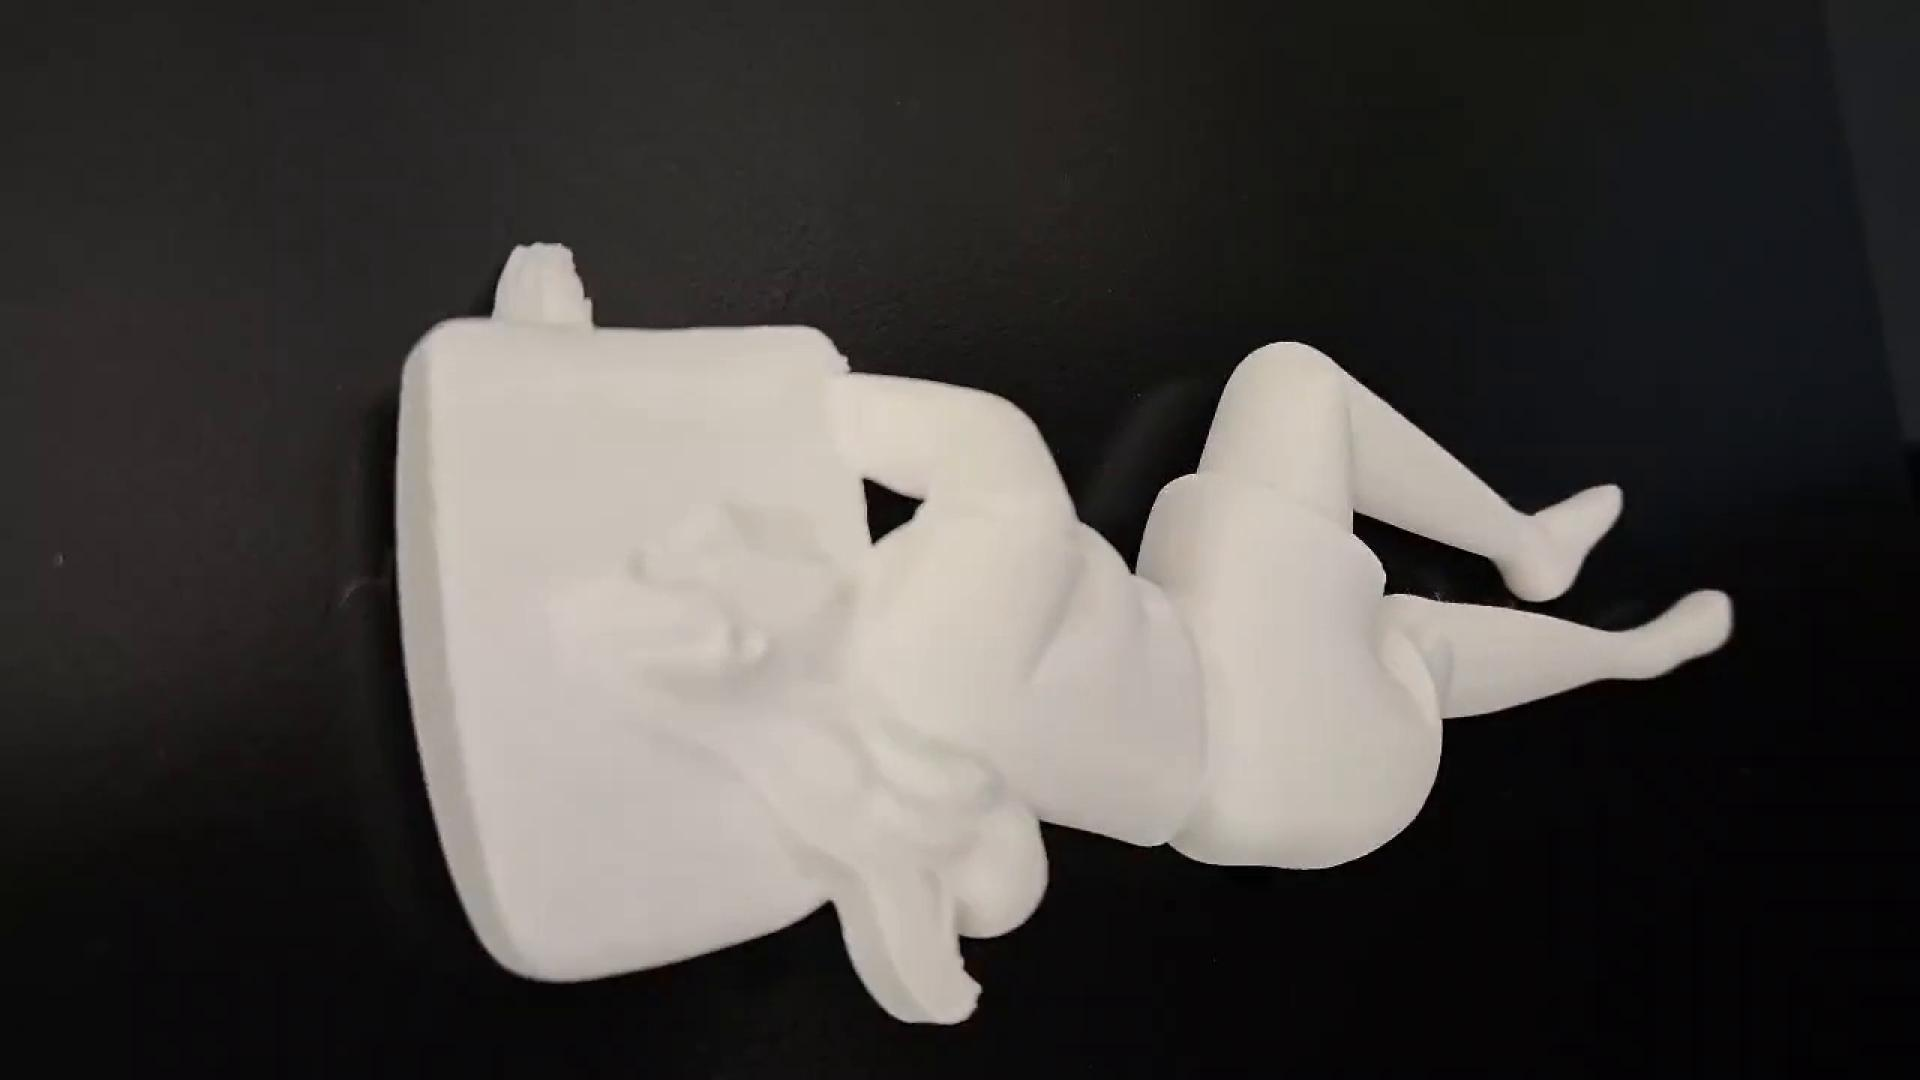Good-style: (390, 237, 1730, 1030)
